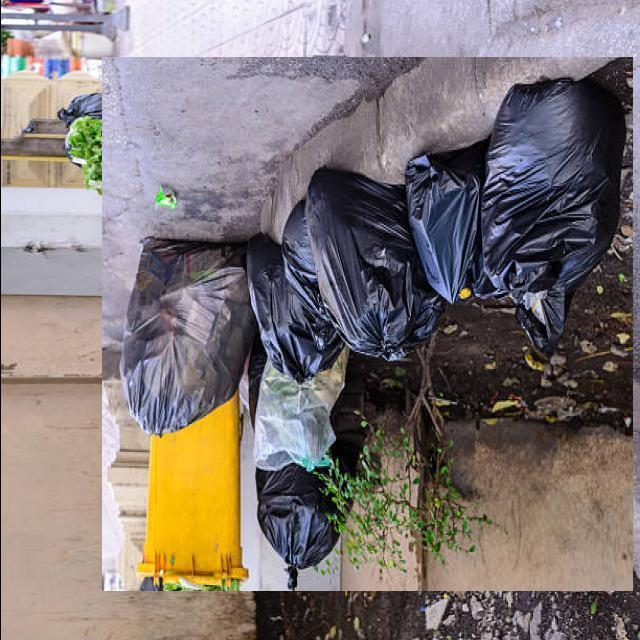Trashbag: (485, 78, 622, 352), (115, 232, 258, 442), (303, 169, 424, 365), (250, 413, 380, 584), (243, 222, 327, 384), (411, 156, 492, 293)
